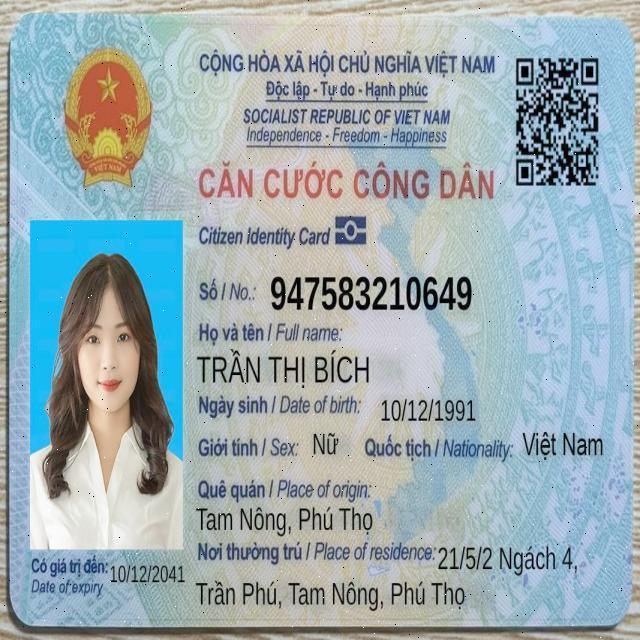current_place: (194, 577, 468, 613), (436, 542, 579, 578)
dob: (379, 395, 477, 425)
expire_date: (109, 563, 186, 585)
gender: (311, 429, 340, 459)
id: (268, 271, 474, 317)
name: (194, 347, 372, 391)
nationality: (521, 429, 605, 462)
origin_place: (194, 503, 374, 539)
